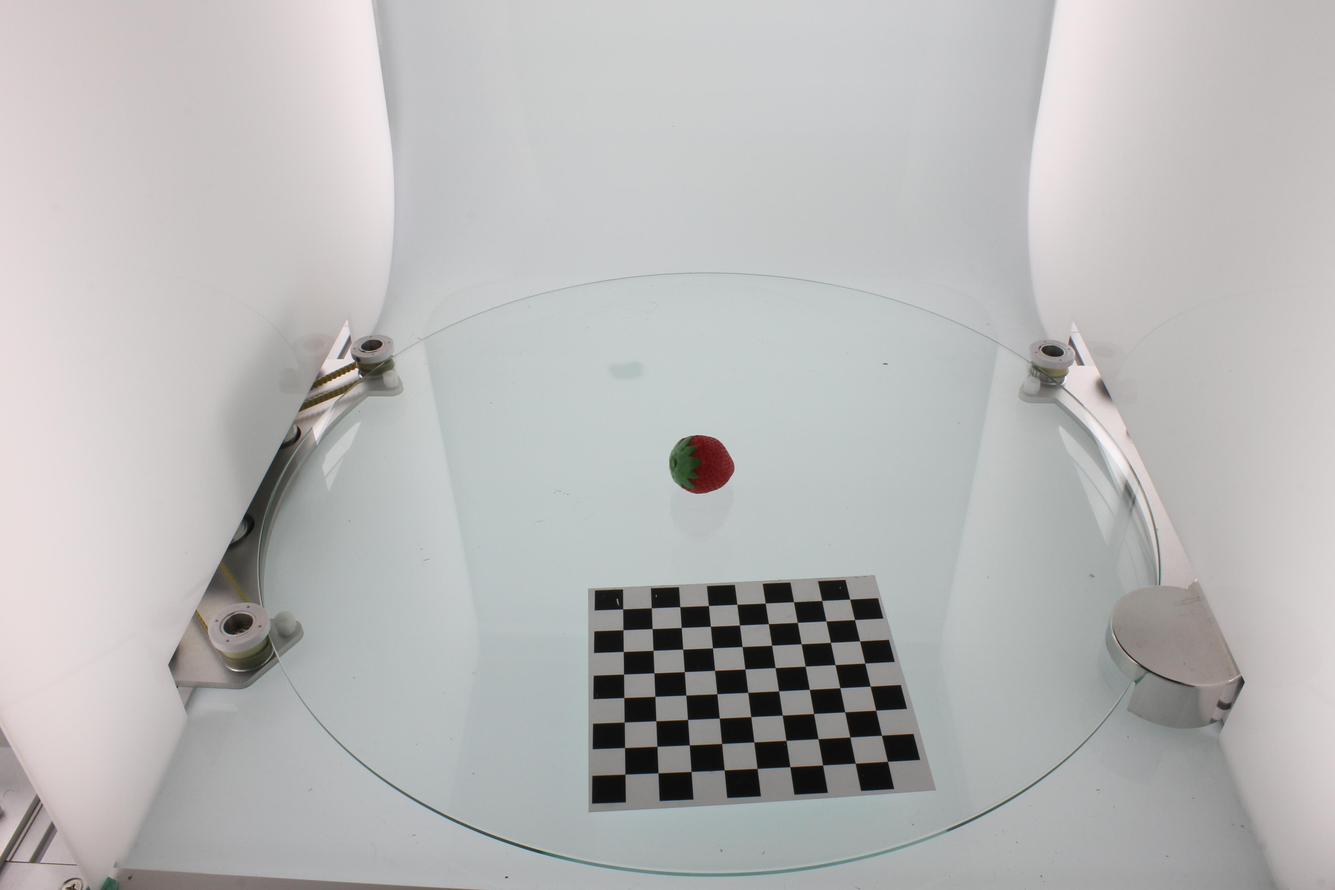strawberry: (670, 435, 734, 494)
